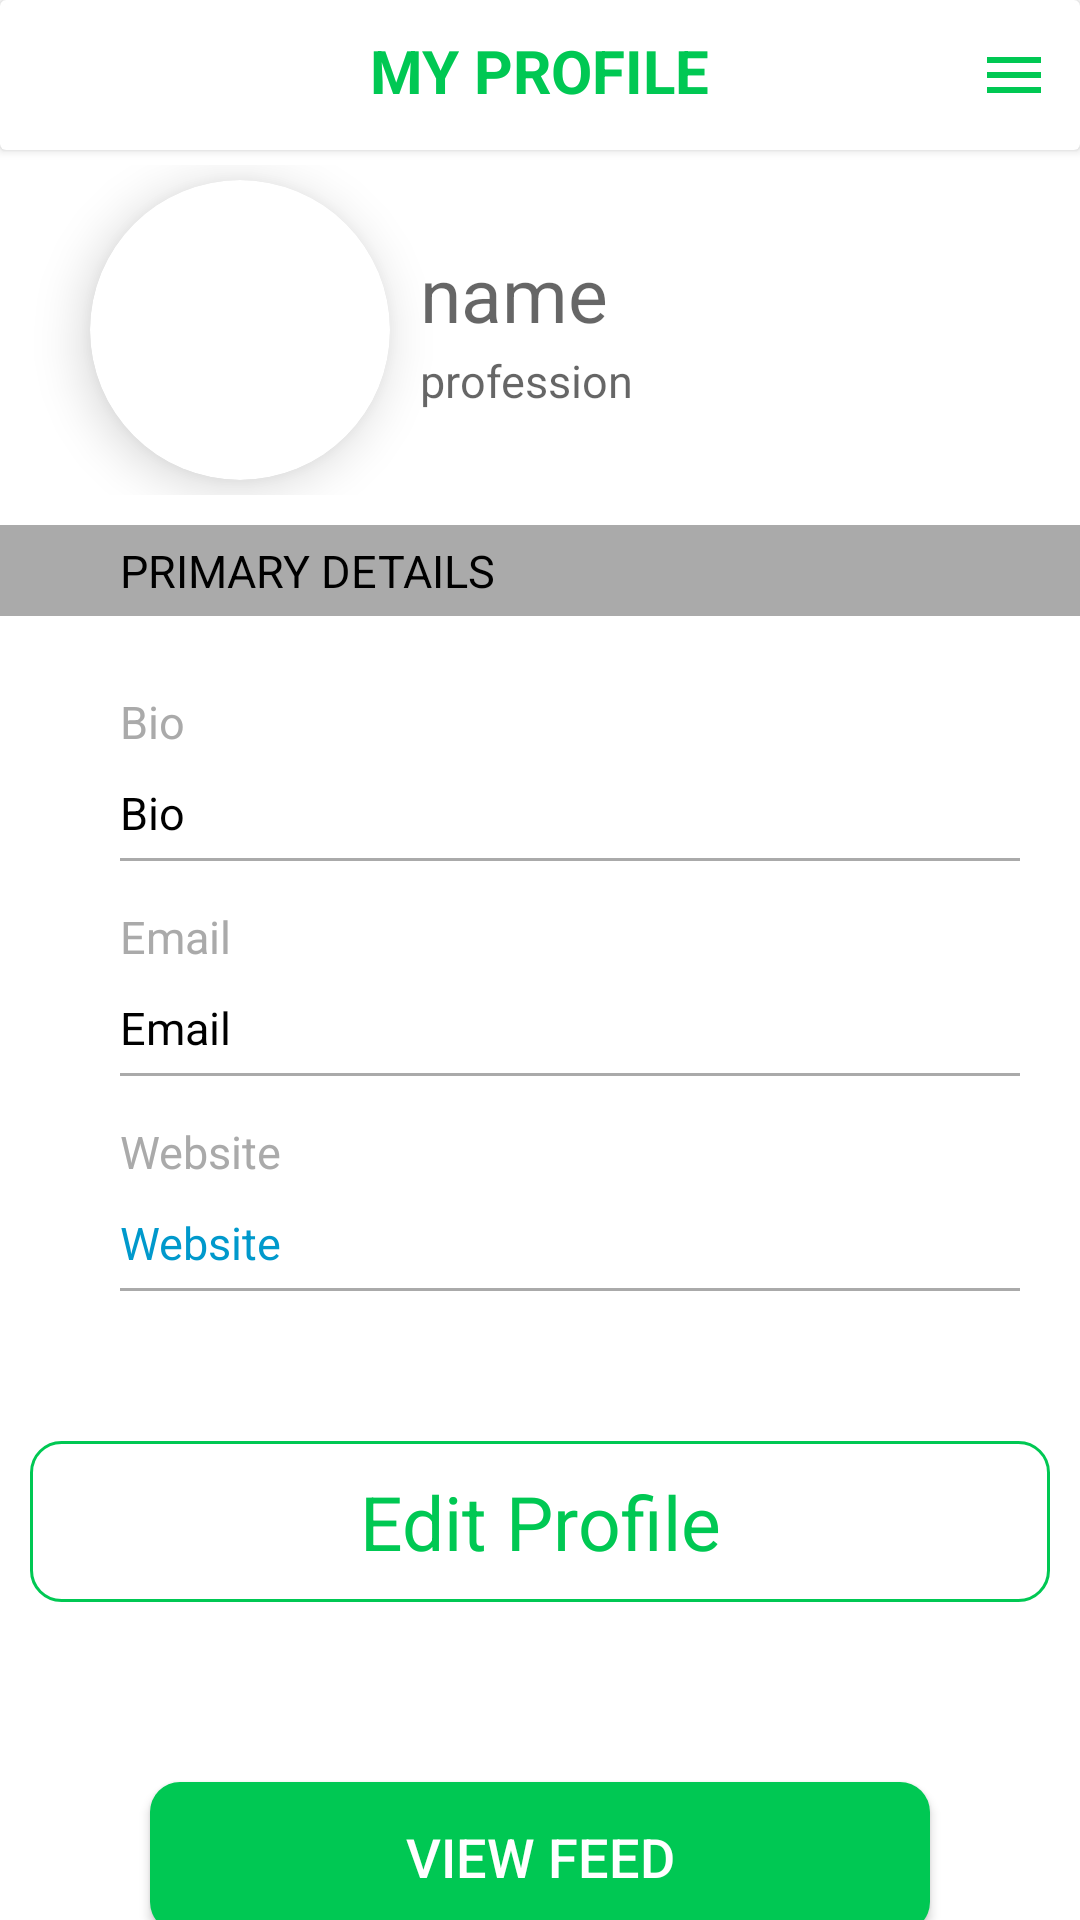

Icon bounding boxes for this 1080w x 1920h phone screenshot, format (x1, y1, x2, y2):
menu: (987, 57, 1041, 93)
